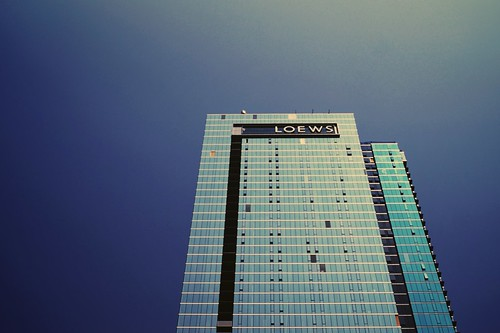low: (169, 106, 462, 333)
